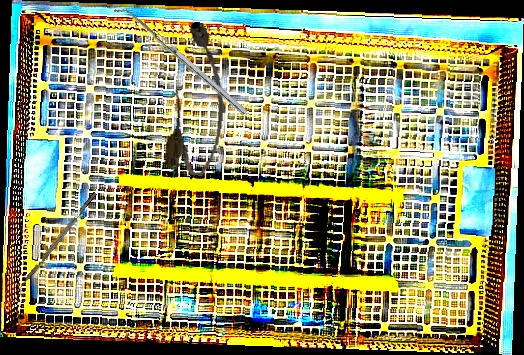Cannula: (162, 20, 236, 178)
Chopper: (14, 191, 102, 297)
Spatula Surgical: (113, 1, 248, 121)
